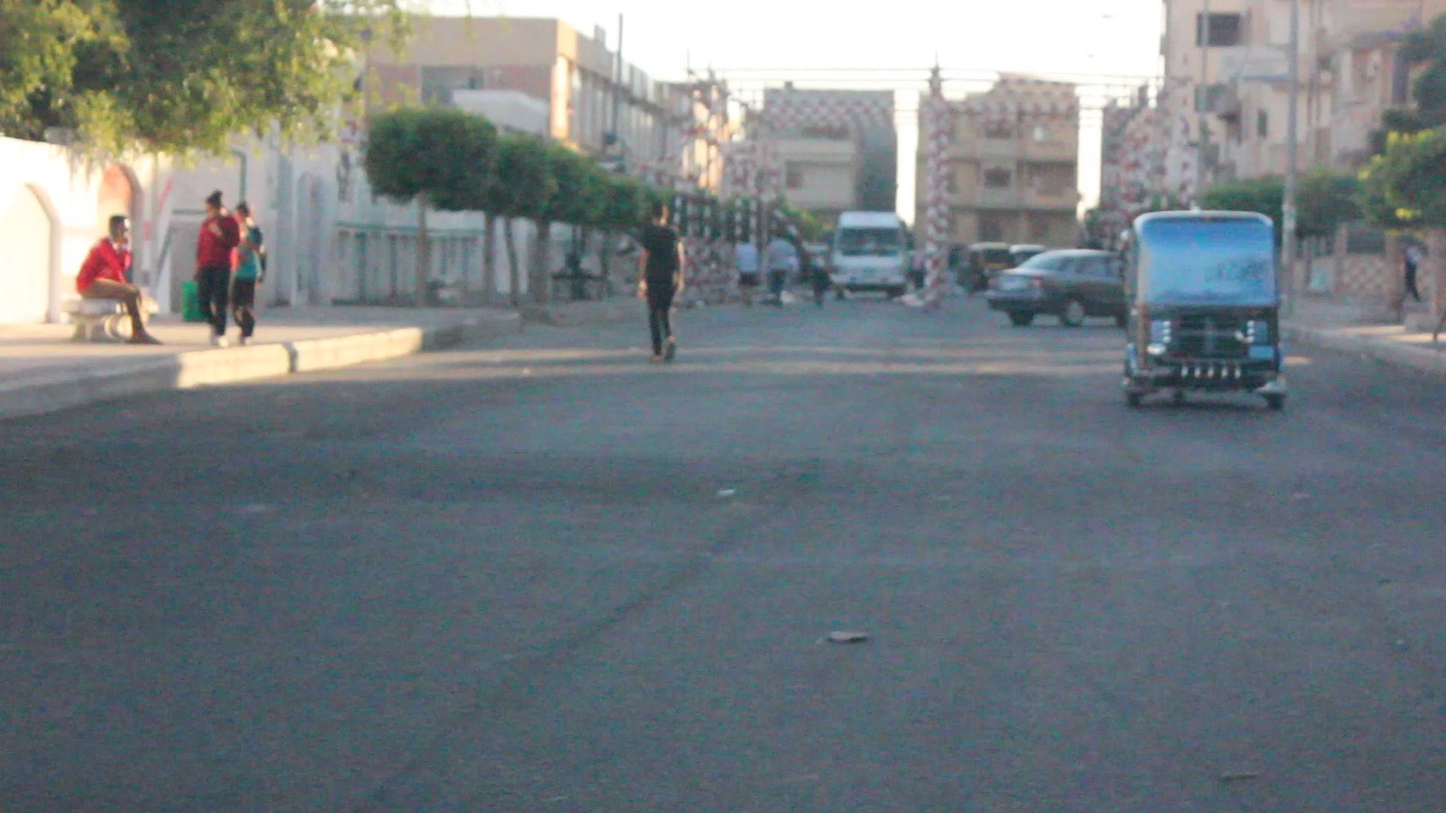Bump: (4, 414, 1446, 499)
